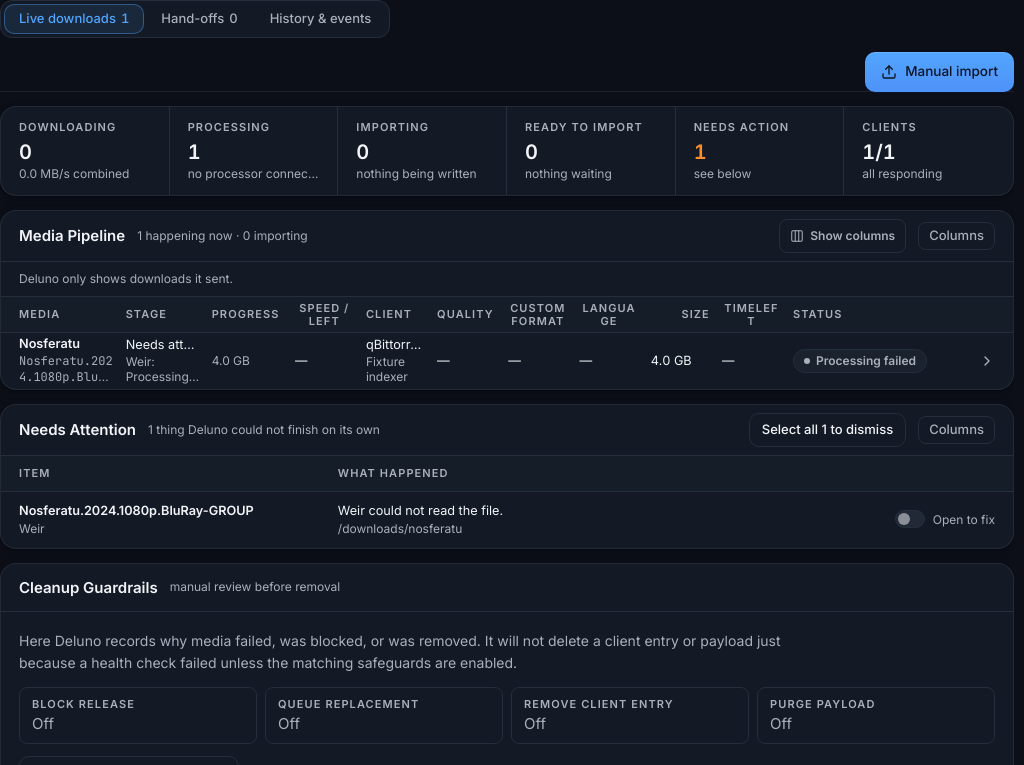
In progress: the hand-off fixes and the hand-off drawer › the same row opens the download's own drawer when the download is still in the client
Click the text "Nosferatu.2024.1080p.BluRay-GROUP": (507, 360) [1,332,1013,388]
(page scrolled)
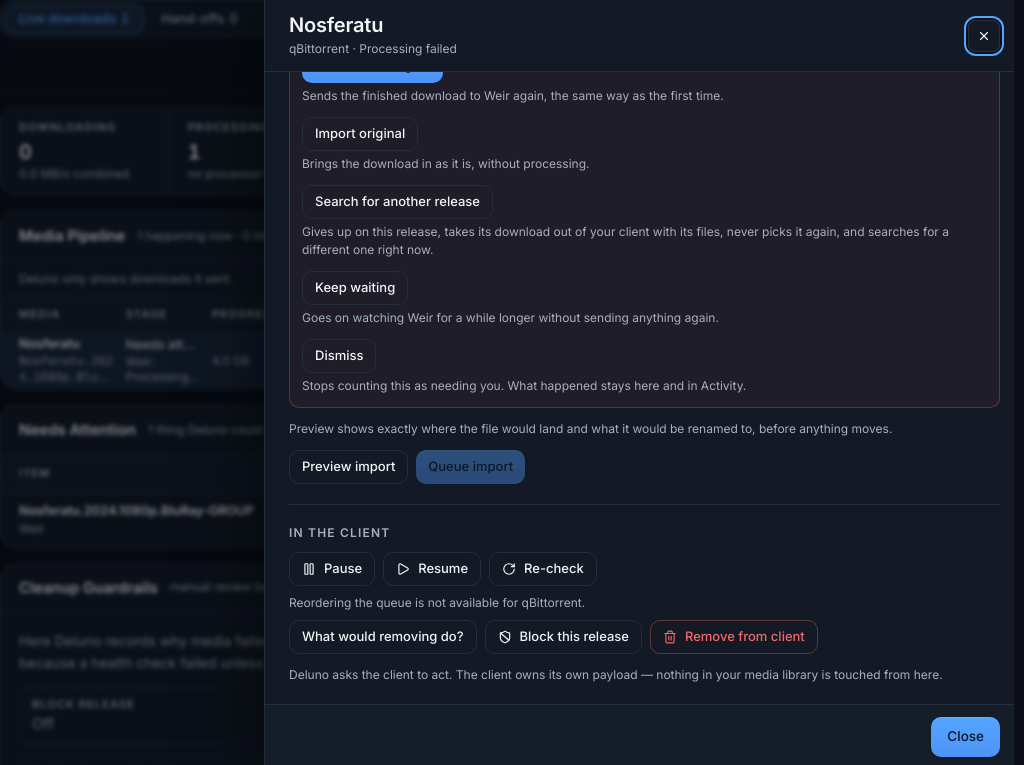
expect the button "Preview import" is shown: met, box [289,450,408,484]
